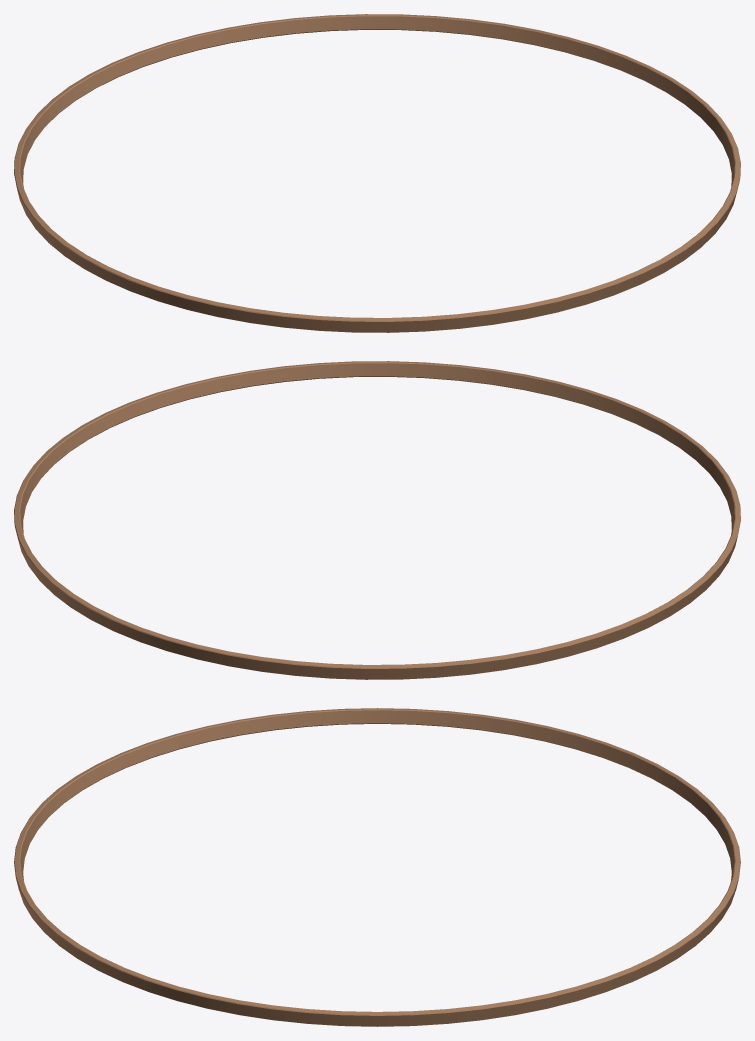
File: SM_TongQuan2.fbx
The picture shows the model from 3 angles, top to bottom: view 1: azimuth 30°, elevation 25°; view 2: azimuth 150°, elevation 25°; view 3: azimuth 270°, elevation 25°; orthographic projection.
Visible parts, largest first — view 1: SM_tongquan3; view 2: SM_tongquan3; view 3: SM_tongquan3.
Part boxes in pixels (<box>): SM_tongquan3: <box>14,14,740,332</box>; SM_tongquan3: <box>14,361,740,679</box>; SM_tongquan3: <box>14,708,740,1026</box>.
Bounding box in the file's own units: 3.06 × 0.0661 × 3.06.
